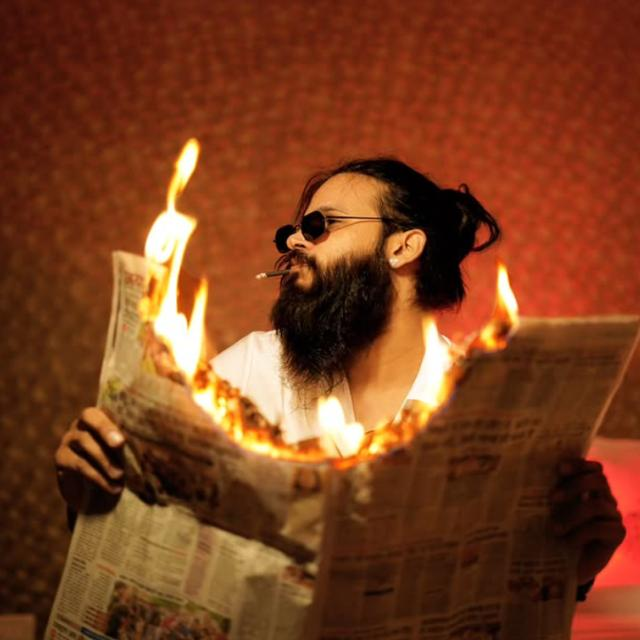fire: (191, 369, 432, 470), (138, 137, 208, 389), (406, 263, 517, 409)
